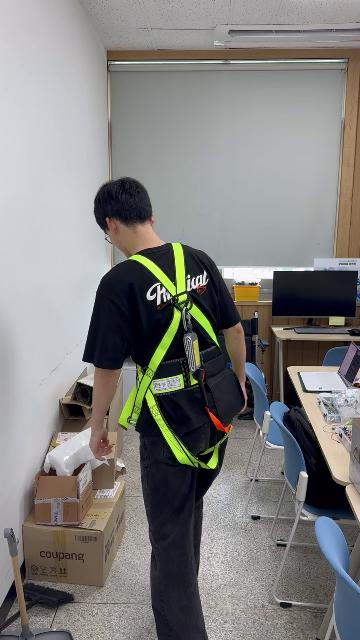helmet_not_worn: (92, 175, 154, 230)
vest_worn: (118, 249, 237, 464)
